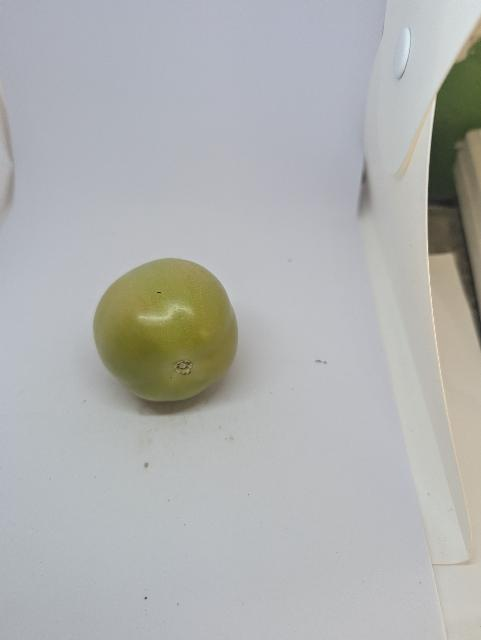green: (92, 256, 240, 404)
